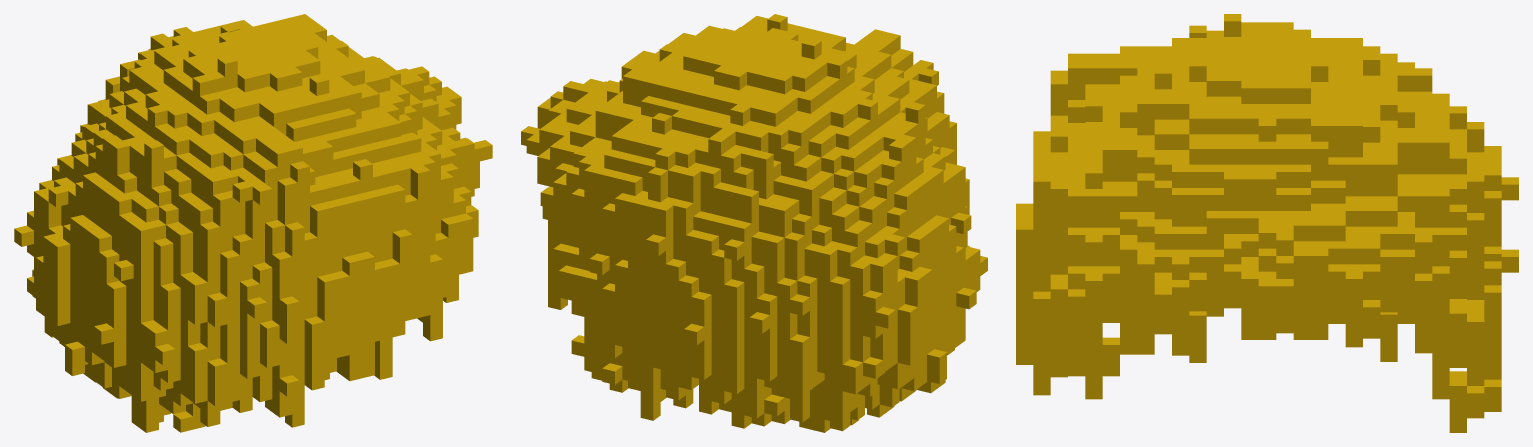
3 renders of one model, left to right at view 1: azimuth 30°, elevation 25°; view 2: azimuth 150°, elevation 25°; view 3: azimuth 270°, elevation 25°, orthographic. The views are drawn at different scales.
Size of the model in its own units: 1.55 by 1.25 by 1.45.
